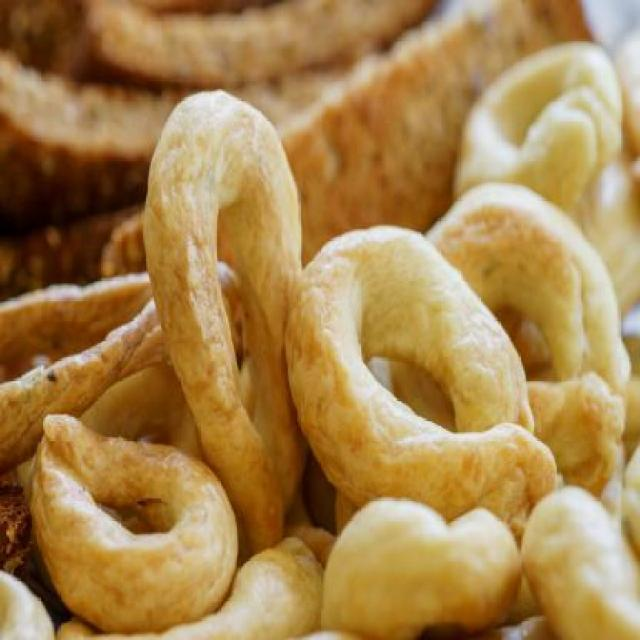Taralli: (42, 90, 632, 616)
